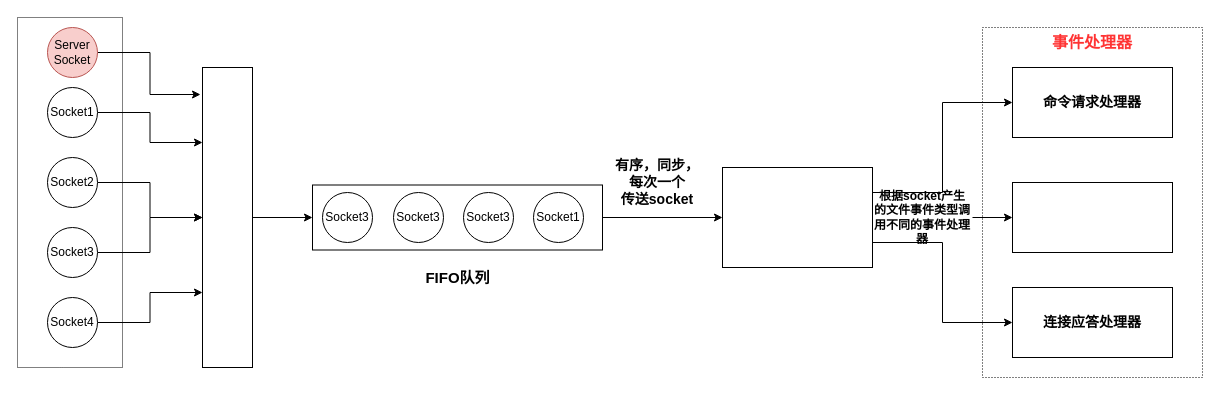
Image size: 1220x395. Some labels were removed from this diagram. Here are the shapes that lost their labels. From the top down, the centre of each, then its label:
At point (227, 217): "IO多路复用程序".
At point (797, 217): "文件事件分派器".
At point (1092, 217): "命令回复处理器".
